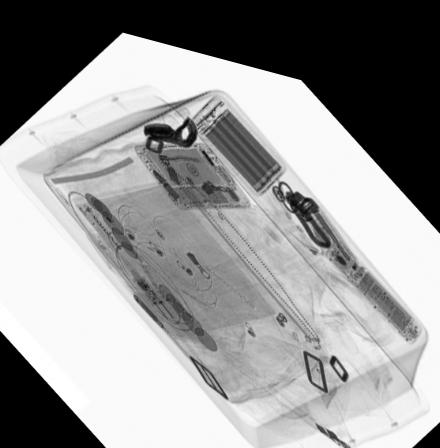Powerbank: (188, 79, 284, 179)
